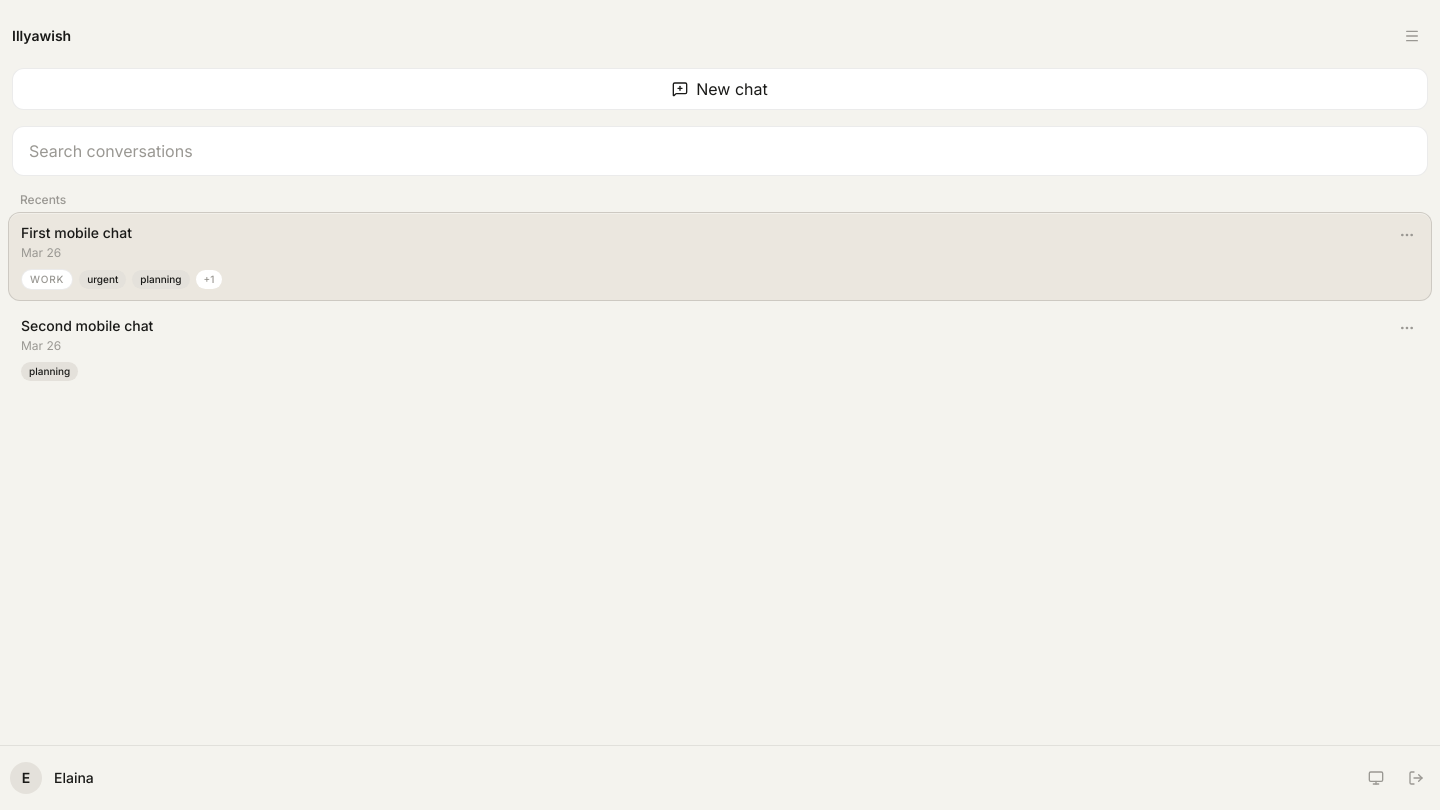
Scenario: SidebarContent mobile actions › closes the expanded mobile actions after selecting a conversation
Click the button named "More actions for First mobile chat" at (1407, 235), box [1391, 219, 1423, 251]
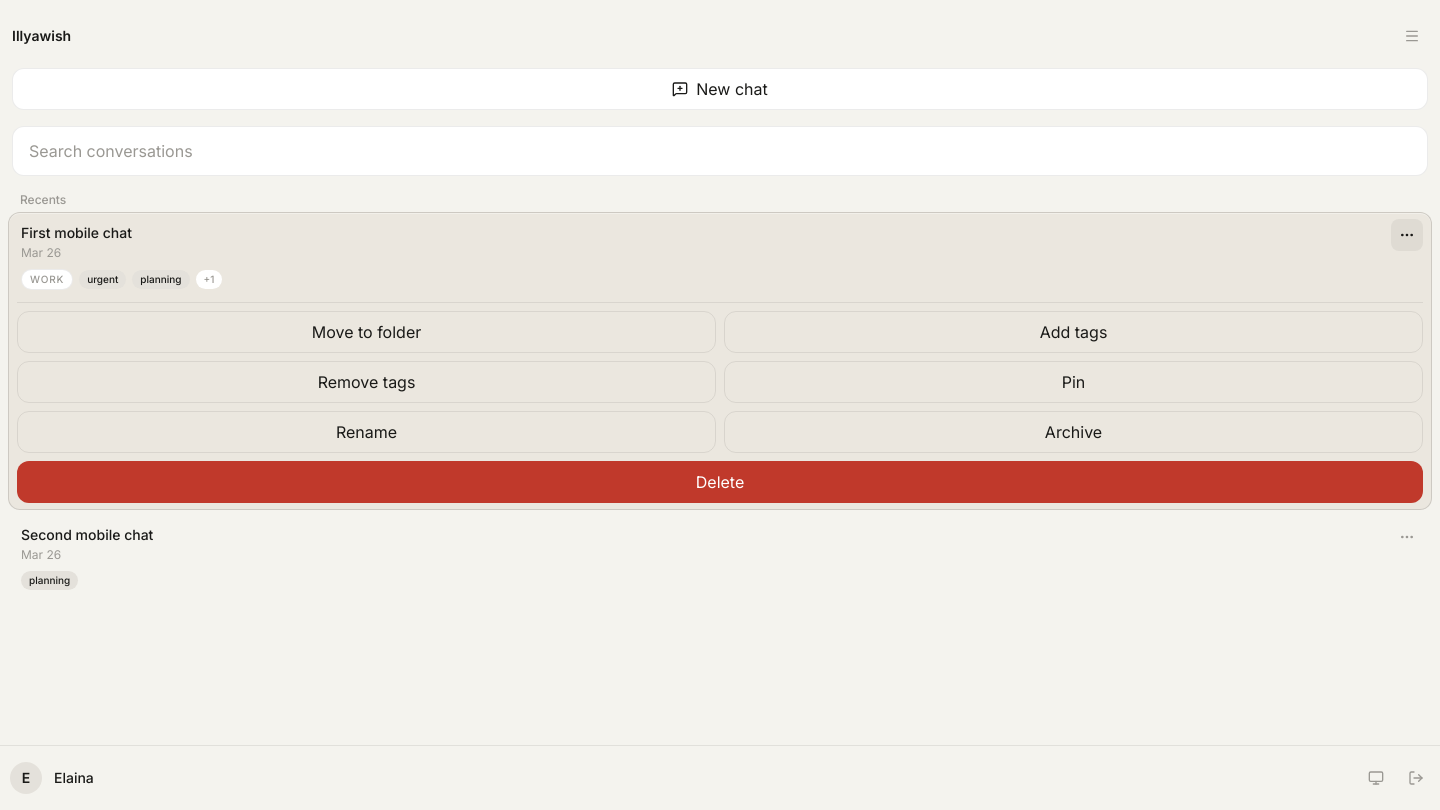
Result: the button "Delete" is shown at [17, 461, 1423, 503]
Click the button "First mobile chat" at (77, 232), box [17, 219, 1383, 294]
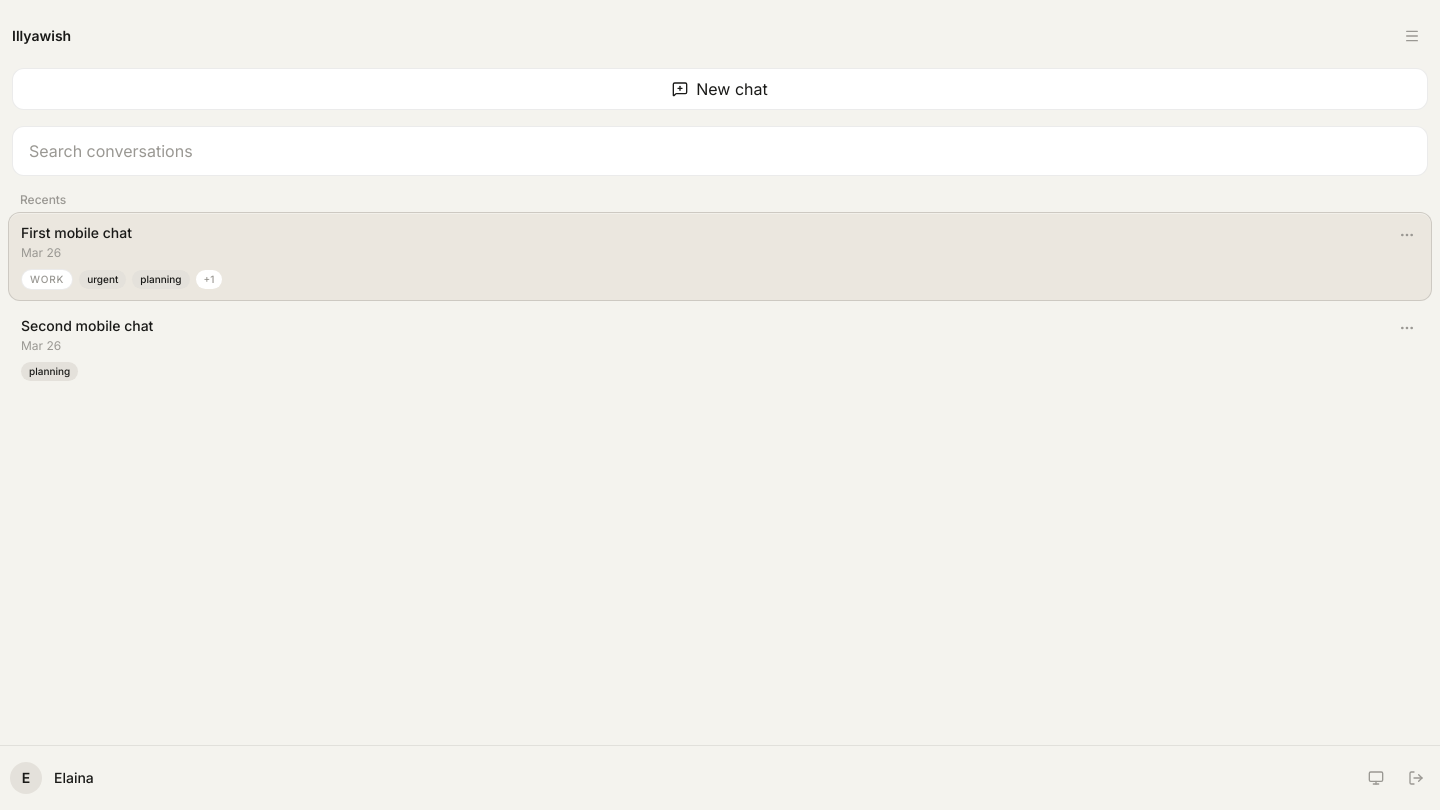
Result: the button "Delete" is gone
